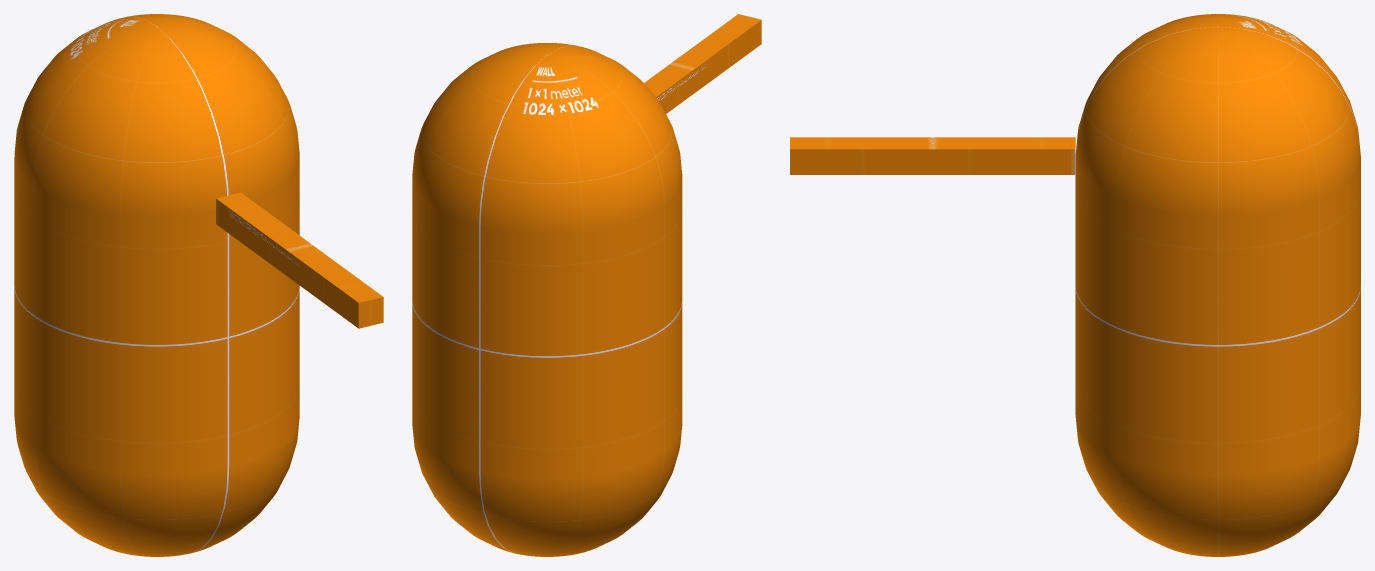
Rendered from player_main.gltf.
3 views of the same model, side by side, from view 1: azimuth 30°, elevation 25°; view 2: azimuth 150°, elevation 25°; view 3: azimuth 270°, elevation 25° (orthographic). The views are drawn at different scales.
Parts seen in each view (by area): view 1: player_ref, MeshInstance3D; view 2: player_ref, MeshInstance3D; view 3: player_ref, MeshInstance3D.
Part boxes in pixels (x1,y1,x2,y2): player_ref: [14, 14, 299, 556]; MeshInstance3D: [216, 192, 383, 328]; player_ref: [412, 43, 682, 556]; MeshInstance3D: [644, 14, 761, 113]; player_ref: [1075, 14, 1360, 556]; MeshInstance3D: [790, 137, 1075, 174].
Bounding box in the file's own units: 1 × 2 × 2.
Materials: 1 (1 with a texture image).
